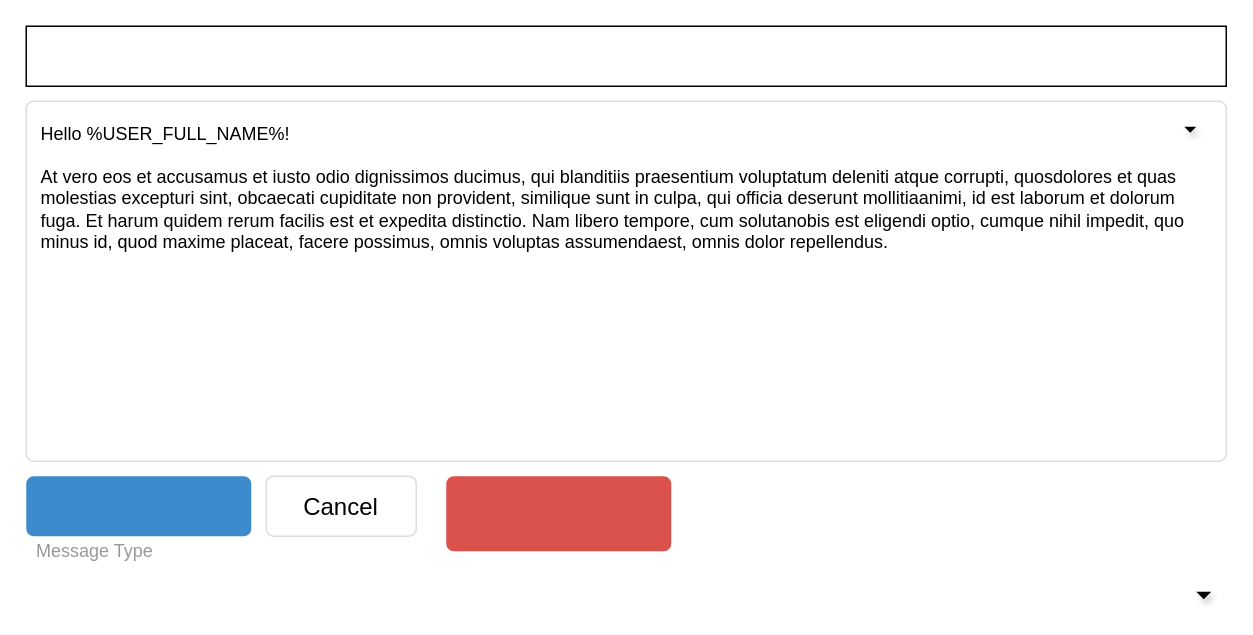
This 1253x635 diagram has some shape labels left out. The shapes that lost their labels are listed below. From the top down, each one's centre as x and y in pixels, then its label:
At [138,506]: "Save Template".
At [558,513]: "Delete Template".
